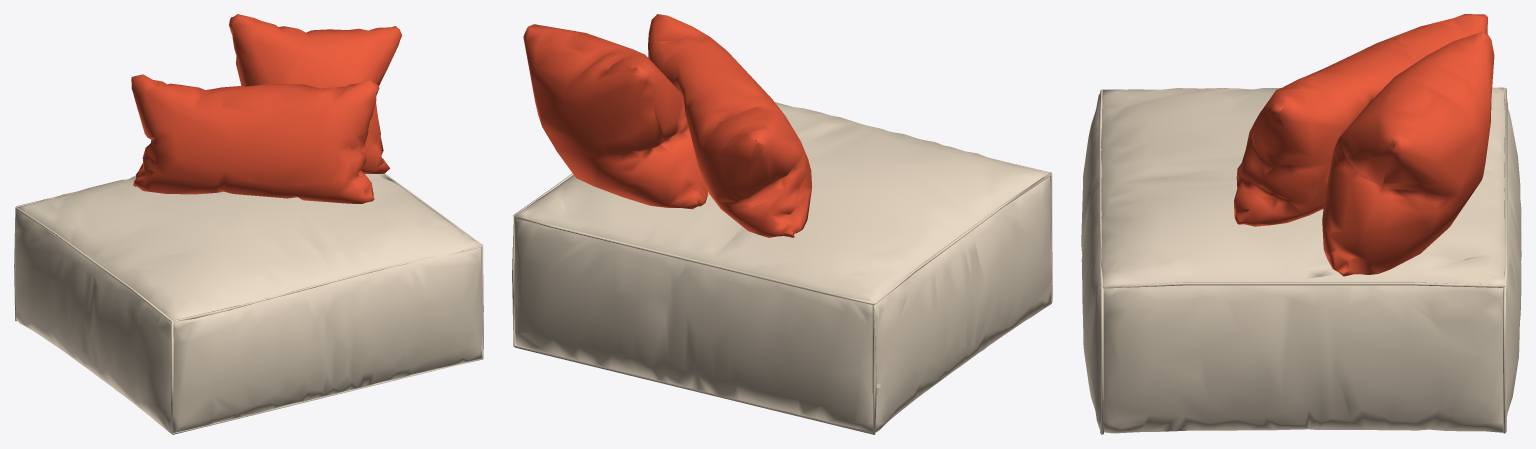
Rendered from armchair.glb.
3 renders of one model, left to right at view 1: azimuth 30°, elevation 25°; view 2: azimuth 150°, elevation 25°; view 3: azimuth 270°, elevation 25°, orthographic. The views are drawn at different scales.
Parts seen in each view (by area): view 1: seat, cushions; view 2: seat, cushions; view 3: seat, cushions.
Part boxes in pixels (left/top/right/bottom): seat: left=14, top=173, right=483, bottom=434; cushions: left=131, top=14, right=401, bottom=203; seat: left=512, top=102, right=1052, bottom=434; cushions: left=523, top=14, right=811, bottom=237; seat: left=1081, top=87, right=1521, bottom=434; cushions: left=1234, top=14, right=1494, bottom=276.
Size of the model in its own units: 1.2 by 0.8596 by 1.01.
